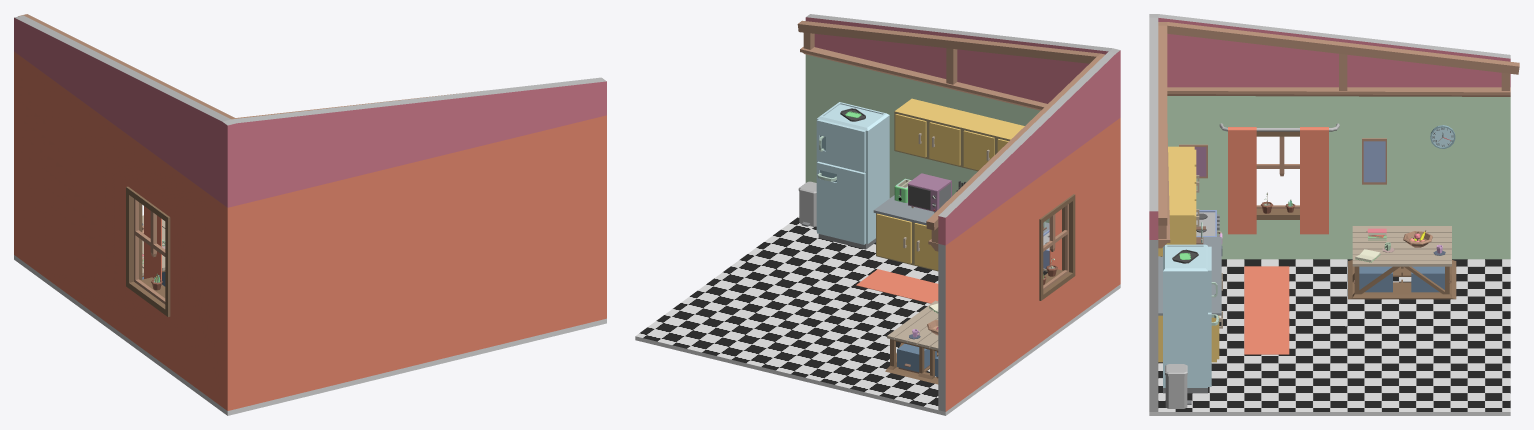
3 renders of one model, left to right at view 1: azimuth 30°, elevation 25°; view 2: azimuth 150°, elevation 25°; view 3: azimuth 270°, elevation 25°, orthographic. The views are drawn at different scales.
Parts seen in each view (by area): view 1: Wall, Winow, Floor; view 2: Wall, Floor, Sink, Refrigerator, Table, Winow, Plane, Oven, TrashCan; view 3: Wall, Floor, Winow, Table, Refrigerator, Sink, Plane, Painting, TrashCan, GasRange, Circle.001, Books (+1 smaller).
Boxes of the visible parts, x1,y1,x2,y2 form: Wall: (14, 14, 606, 410); Winow: (126, 186, 170, 316); Floor: (14, 255, 606, 415); Wall: (797, 14, 1120, 411); Floor: (635, 216, 1120, 415); Sink: (873, 98, 1049, 271); Refrigerator: (816, 102, 889, 249); Table: (885, 300, 938, 384); Winow: (1039, 194, 1075, 300); Plane: (856, 269, 938, 303); Oven: (908, 173, 951, 212); TrashCan: (798, 181, 816, 226); Wall: (1149, 14, 1519, 411); Floor: (1149, 259, 1510, 415); Winow: (1219, 123, 1339, 234); Table: (1348, 226, 1456, 299); Refrigerator: (1163, 244, 1218, 393); Sink: (1158, 146, 1222, 362); Plane: (1244, 266, 1289, 354); Painting: (1179, 138, 1386, 184); TrashCan: (1165, 364, 1191, 408); GasRange: (1196, 210, 1222, 255); Circle.001: (1430, 125, 1455, 148); Books: (1355, 228, 1386, 262).
Bounding box in the file's own units: 2.75 × 1.98 × 2.7.
Materials: 2 (2 with a texture image).
